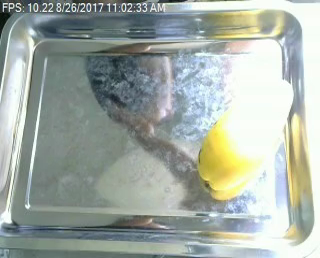Mango: (194, 76, 296, 202)
